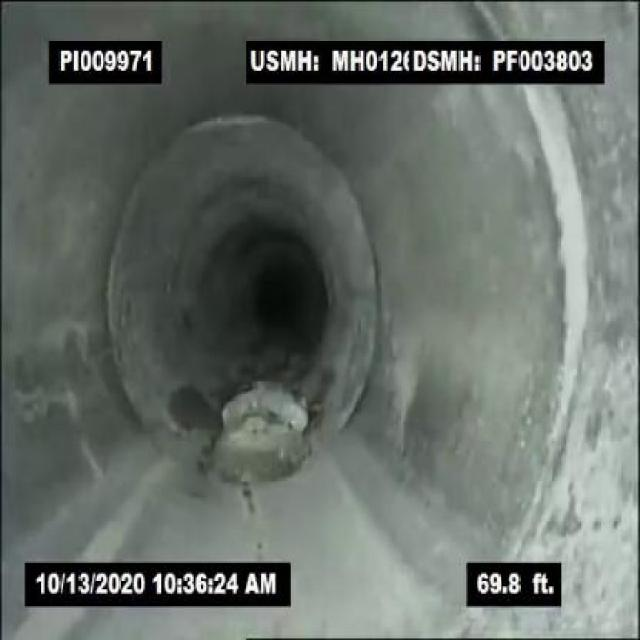Debris: (196, 358, 330, 460)
Joint offset: (515, 89, 620, 494)
